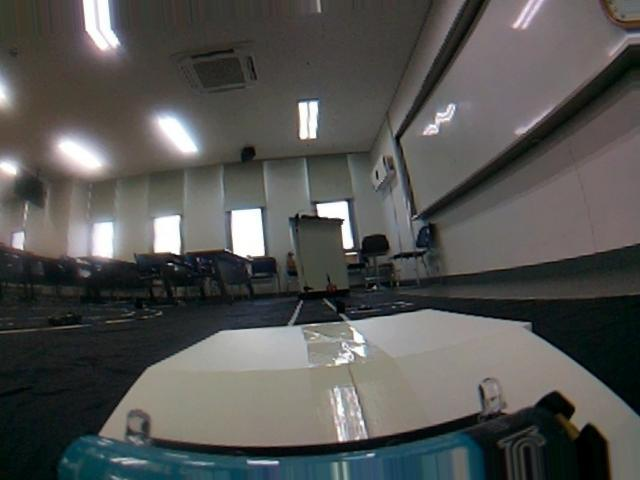hill_up: (76, 318, 640, 480)
